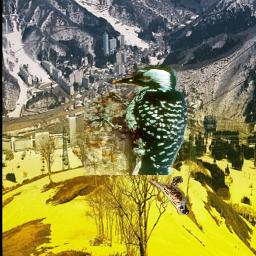Sparrow: (149, 177, 189, 216)
Woodpecker: (85, 65, 188, 175)
